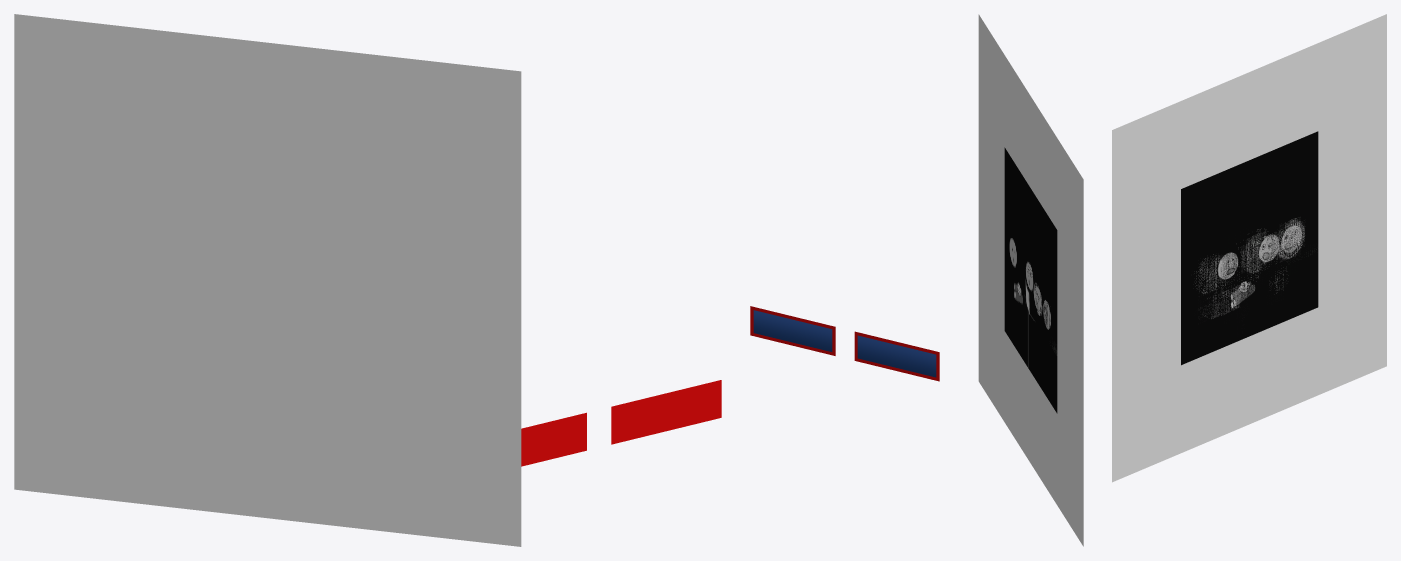
File: LearnMoreScreenNonVR.fbx
3 renders of one model, left to right at view 1: azimuth 30°, elevation 25°; view 2: azimuth 150°, elevation 25°; view 3: azimuth 270°, elevation 25°, orthographic. The views are drawn at different scales.
Visible parts, largest first — view 1: BGGlow (×4), Highlight (×2); view 2: BGGlow, Slide (×2), Quad (×2), Highlight (×2), SlideXboxOne; view 3: BGGlow (×4), Slide (×4), SlideXboxOne (×2), SlideConsole, SlideSwitch.
Boxes of the visible parts, box(x1,y1,x2,y2) form: BGGlow (×4): box(14, 14, 521, 546); Highlight (×2): box(521, 380, 721, 466); BGGlow: box(978, 14, 1083, 546); Slide (×2): box(1004, 147, 1057, 411); Quad (×2): box(753, 310, 936, 377); Highlight (×2): box(750, 306, 939, 381); SlideXboxOne: box(1045, 225, 1057, 413); BGGlow (×4): box(1112, 14, 1386, 482); Slide (×4): box(1181, 131, 1318, 364); SlideXboxOne (×2): box(1181, 132, 1318, 359); SlideConsole: box(1184, 131, 1318, 347); SlideSwitch: box(1181, 158, 1317, 354).
Size of the model in its own units: 9.12 by 7.28 by 5.15.
Materials: 26 (25 with a texture image).
